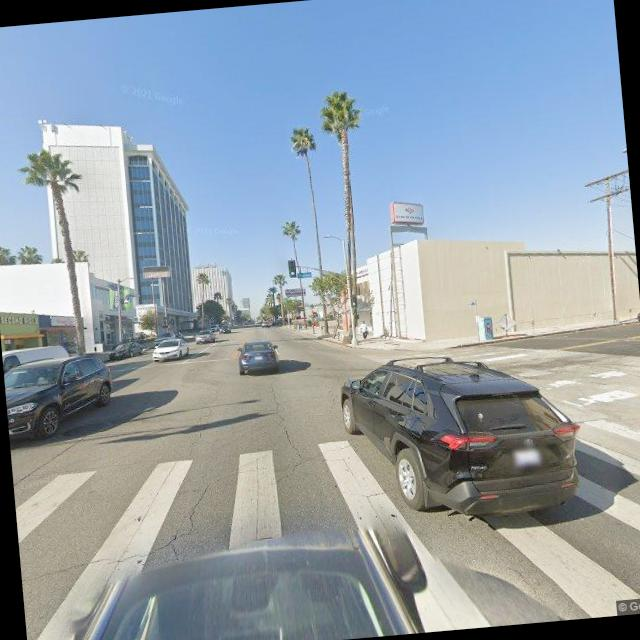crack: (19, 540, 167, 584), (152, 479, 218, 557), (263, 376, 304, 472), (178, 380, 228, 458)
